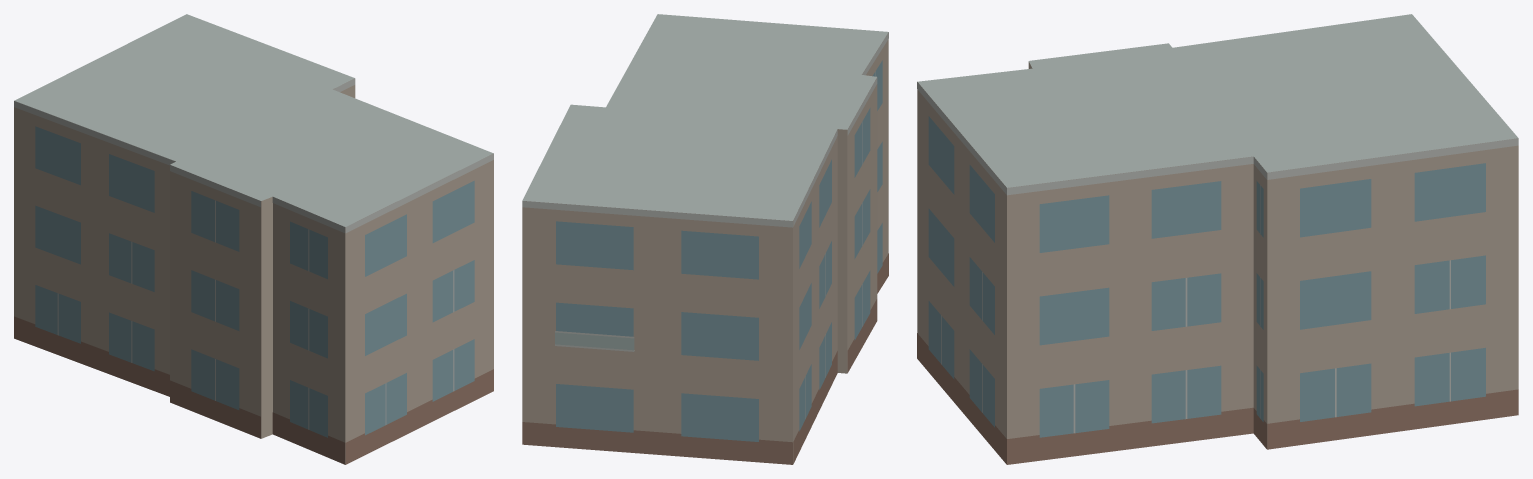
The model's file is survey-upis-32675597.glb.
3 renders of one model, left to right at view 1: azimuth 30°, elevation 25°; view 2: azimuth 150°, elevation 25°; view 3: azimuth 270°, elevation 25°, orthographic. The views are drawn at different scales.
Visible parts, largest first — view 1: survey-upis-32675597.tmp; view 2: survey-upis-32675597.tmp; view 3: survey-upis-32675597.tmp.
Boxes of the visible parts, <box> form: survey-upis-32675597.tmp: <box>14,14,493,464</box>; survey-upis-32675597.tmp: <box>522,14,888,464</box>; survey-upis-32675597.tmp: <box>917,14,1518,464</box>.
Size of the model in its own units: 12.33 by 9.15 by 18.02.
